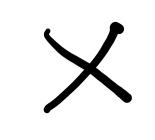mult: (41, 22, 132, 110)
